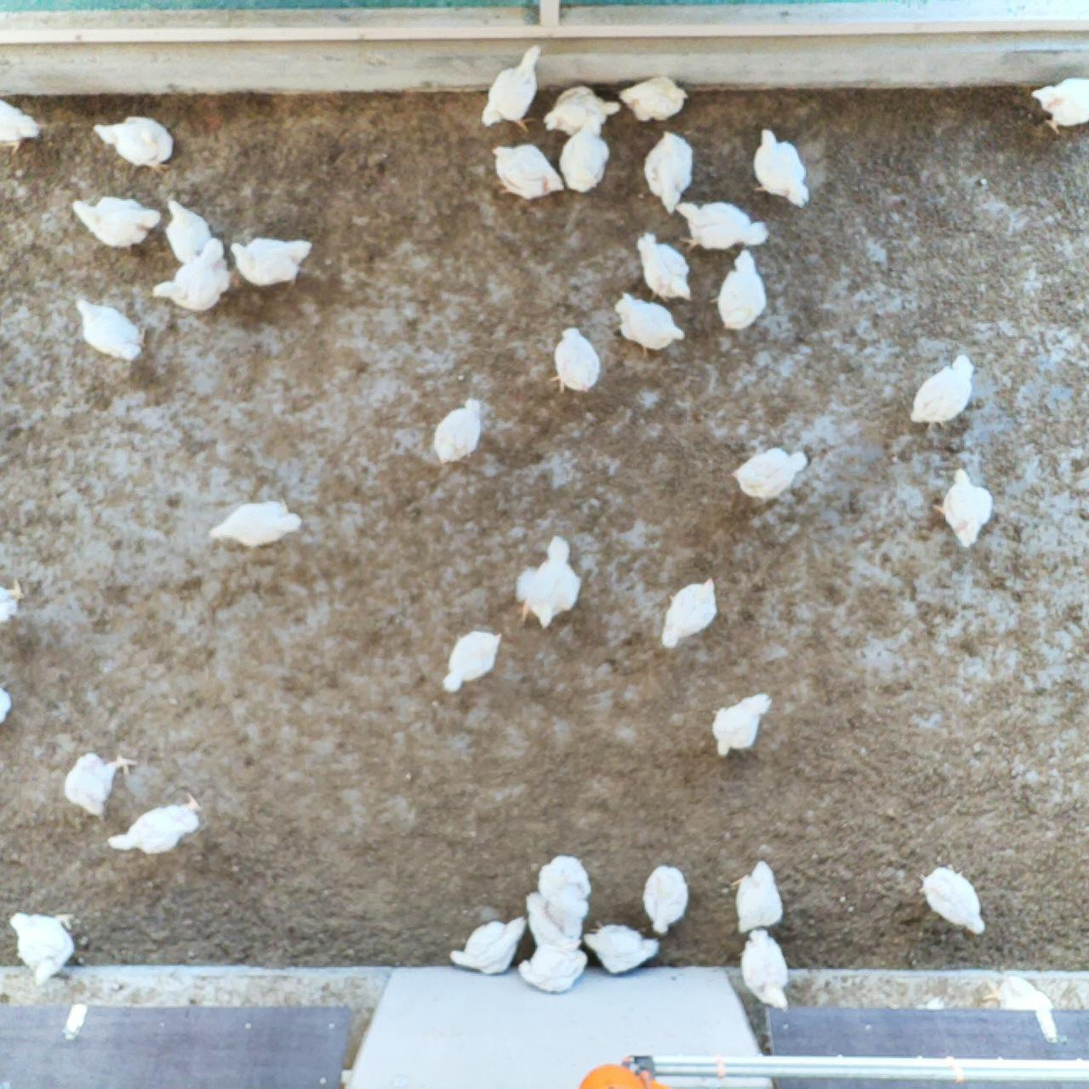chicken: (106, 788, 206, 856), (516, 530, 582, 630), (152, 234, 231, 316), (915, 856, 992, 939), (477, 42, 542, 136), (207, 490, 302, 553), (224, 232, 316, 295), (66, 194, 158, 256), (89, 112, 175, 178), (675, 193, 769, 253), (933, 465, 997, 553), (64, 748, 138, 824), (71, 288, 150, 359), (910, 351, 975, 437), (449, 914, 532, 977), (10, 907, 74, 987), (749, 123, 810, 206), (734, 439, 813, 503), (737, 922, 792, 1013), (536, 854, 593, 941), (545, 79, 622, 143), (710, 250, 767, 336), (662, 574, 722, 655), (613, 289, 683, 357), (710, 688, 778, 758), (486, 141, 566, 200), (576, 919, 660, 975), (633, 227, 694, 303), (725, 859, 786, 935), (157, 195, 215, 274), (514, 938, 592, 995), (430, 390, 485, 469), (519, 889, 584, 955), (558, 111, 607, 197), (643, 133, 695, 212), (440, 631, 505, 694), (616, 73, 688, 126), (549, 323, 601, 396), (1029, 74, 1089, 137), (643, 860, 690, 937), (0, 92, 42, 155), (0, 573, 29, 635), (0, 672, 14, 731)
